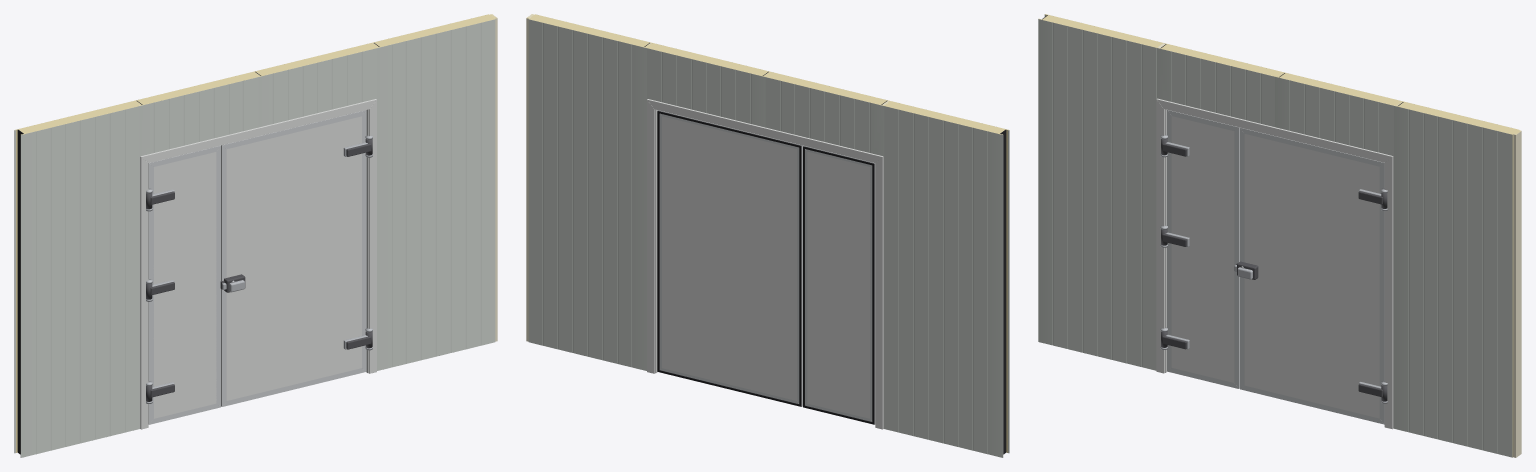
File: double-unequal-6x7.glb
The picture shows the model from 3 angles, left to right: view 1: azimuth 30°, elevation 25°; view 2: azimuth 150°, elevation 25°; view 3: azimuth 330°, elevation 25°; orthographic projection.
Visible parts, largest first — view 1: Wall_p0_Steel_top, Wall_p3_Steel_top, SkinF, SkinF.001, Wall_p1_Steel_top, Wall_p2_Steel_top, TrimF_L, TrimF_R, TrimF_T, Wall_p0_PIR_core, Wall_p0_Gasket, AluF_R.001 (+11 smaller); view 2: Wall_p0_Steel_bottom, Wall_p3_Steel_bottom, SkinB, SkinB.001, Wall_p1_Steel_bottom, Wall_p2_Steel_bottom, TrimB_L, TrimB_R, TrimB_T, Wall_p0_PIR_core, Wall_p0_Gasket, AluB_L (+16 smaller); view 3: Wall_p3_Steel_top, Wall_p0_Steel_top, SkinF, SkinF.001, Wall_p2_Steel_top, Wall_p1_Steel_top, Wall_p3_Tongue_tape, TrimF_R, TrimF_T, TrimF_L, Wall_p3_PIR_core, AluF_R (+8 smaller).
Part boxes in pixels (x1,y1,x2,y2): Wall_p0_Steel_top: (20,106,139,457); Wall_p3_Steel_top: (377,19,495,370); SkinF: (226,116,361,400); SkinF.001: (153,152,216,418); Wall_p1_Steel_top: (139,77,258,428); Wall_p2_Steel_top: (258,48,376,127); TrimF_L: (140,157,148,429); TrimF_R: (368,100,376,373); TrimF_T: (140,99,376,162); Wall_p0_PIR_core: (14,101,141,452); Wall_p0_Gasket: (17,129,23,454); AluF_R.001: (216,146,220,406); Wall_p0_Steel_bottom: (884,106,1003,457); Wall_p3_Steel_bottom: (528,19,646,370); SkinB: (662,116,797,400); SkinB.001: (807,152,870,418); Wall_p1_Steel_bottom: (765,77,884,428); Wall_p2_Steel_bottom: (647,48,765,127); TrimB_L: (875,157,883,429); TrimB_R: (647,100,655,373); TrimB_T: (647,99,883,162); Wall_p0_PIR_core: (883,101,1009,452); Wall_p0_Gasket: (1000,129,1006,454); AluB_L: (797,146,801,406); Wall_p3_Steel_top: (1394,105,1512,457); Wall_p0_Steel_top: (1038,19,1156,370); SkinF: (1244,134,1379,418); SkinF.001: (1171,116,1234,382); Wall_p2_Steel_top: (1275,77,1393,428); Wall_p1_Steel_top: (1157,48,1275,126); Wall_p3_Tongue_tape: (1513,131,1521,457); TrimF_R: (1384,156,1393,429); TrimF_T: (1156,98,1392,162); TrimF_L: (1156,99,1164,373); Wall_p3_PIR_core: (1394,101,1520,457); AluF_R: (1379,163,1384,424).
Bounding box in the file's own units: 4.02 × 2.6 × 0.196.
